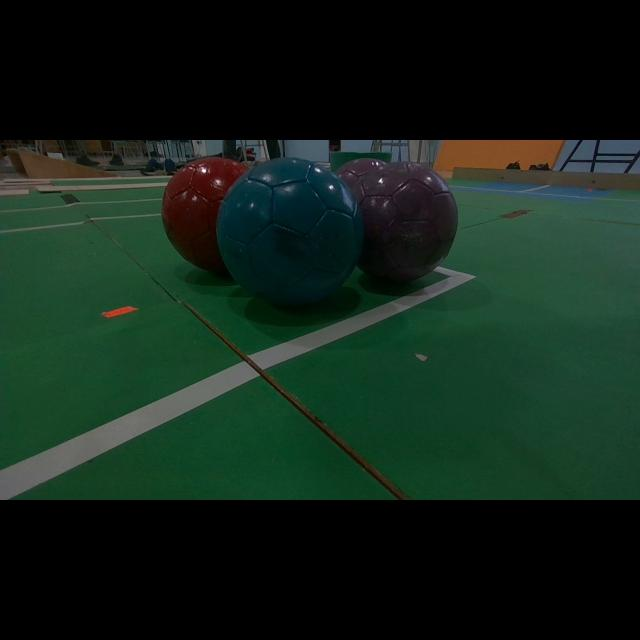B: (218, 159, 362, 305)
P: (352, 162, 458, 281), (336, 159, 386, 189)
R: (162, 158, 249, 272)
